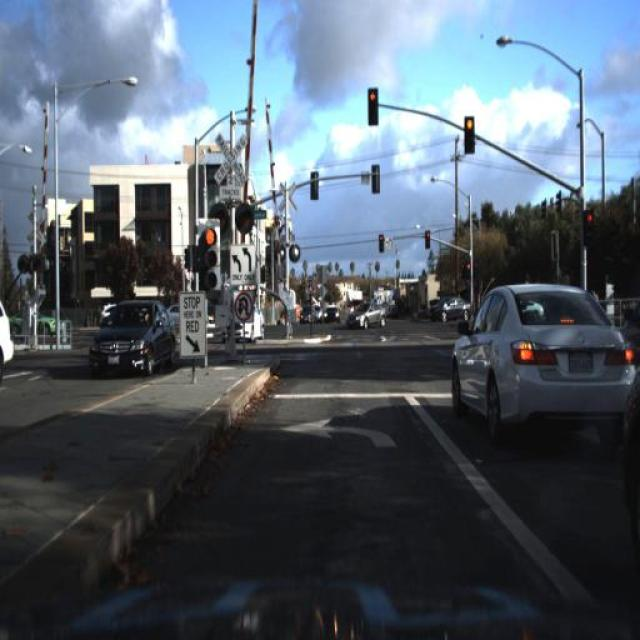car: (444, 280, 634, 446), (443, 280, 636, 438), (73, 296, 178, 384), (81, 296, 178, 380), (214, 308, 265, 346), (423, 285, 473, 321), (347, 296, 389, 332), (344, 304, 394, 334), (348, 296, 369, 328)
trafficLight: (630, 302, 640, 352)
trafficLight-RedLeft: (198, 222, 223, 298), (201, 222, 219, 284), (462, 116, 477, 156), (583, 207, 598, 246), (464, 115, 476, 151), (583, 206, 596, 237), (378, 231, 388, 261), (464, 260, 475, 286), (423, 223, 433, 248), (374, 230, 384, 254), (423, 224, 432, 250), (465, 260, 474, 278)
trafficLight-Yellow: (363, 86, 378, 122), (368, 83, 380, 123)
